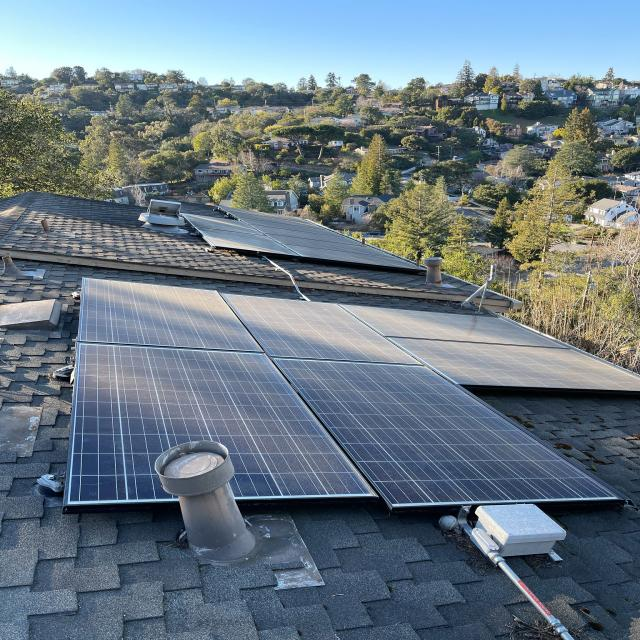dust-solar-panel: (65, 278, 640, 507)
